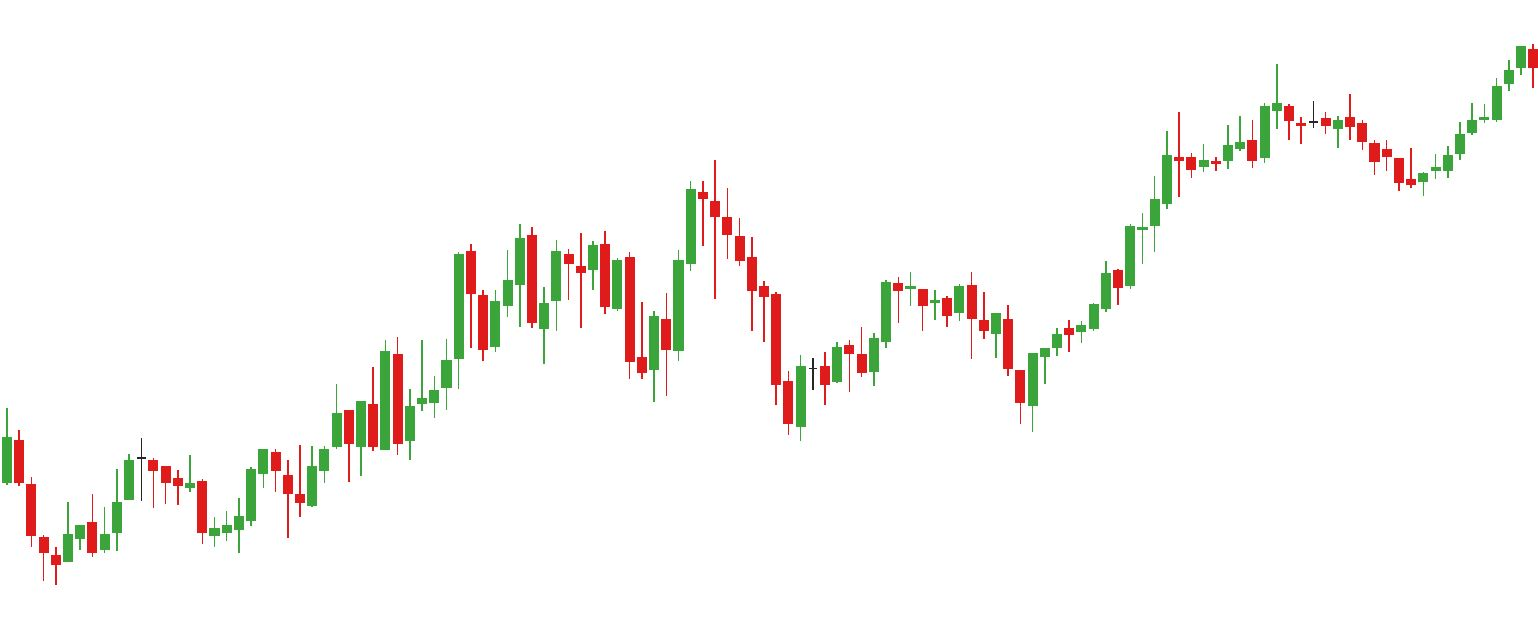buy: (646, 281, 808, 440), (856, 304, 1042, 426)
